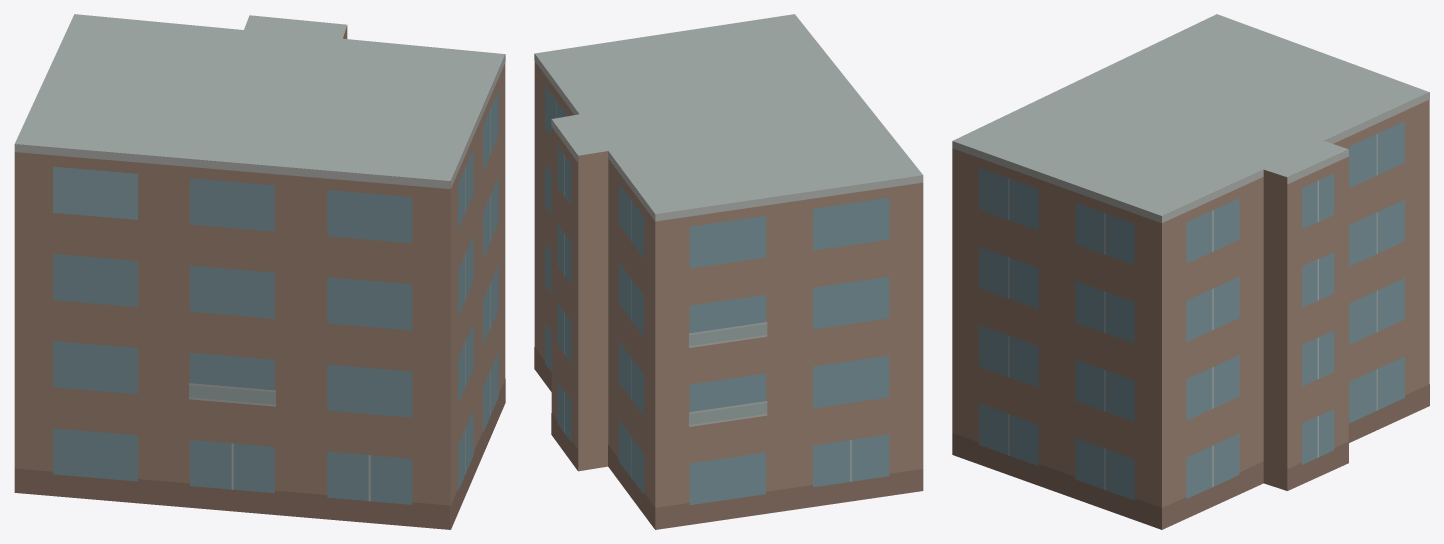
Rendered from survey-upis-32708769.glb.
3 views of the same model, side by side, from view 1: azimuth 30°, elevation 25°; view 2: azimuth 150°, elevation 25°; view 3: azimuth 270°, elevation 25° (orthographic). The views are drawn at different scales.
Parts seen in each view (by area): view 1: survey-upis-32708769.tmp; view 2: survey-upis-32708769.tmp; view 3: survey-upis-32708769.tmp.
Part boxes in pixels (box(x1,y1,x2,y2)): survey-upis-32708769.tmp: box(14, 14, 505, 529); survey-upis-32708769.tmp: box(534, 14, 923, 529); survey-upis-32708769.tmp: box(952, 14, 1429, 529).
Size of the model in its own units: 14.65 by 10.6 by 14.62.
